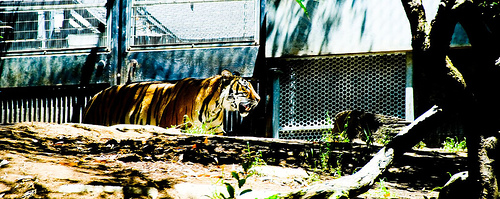Tigre: (89, 67, 272, 134)
